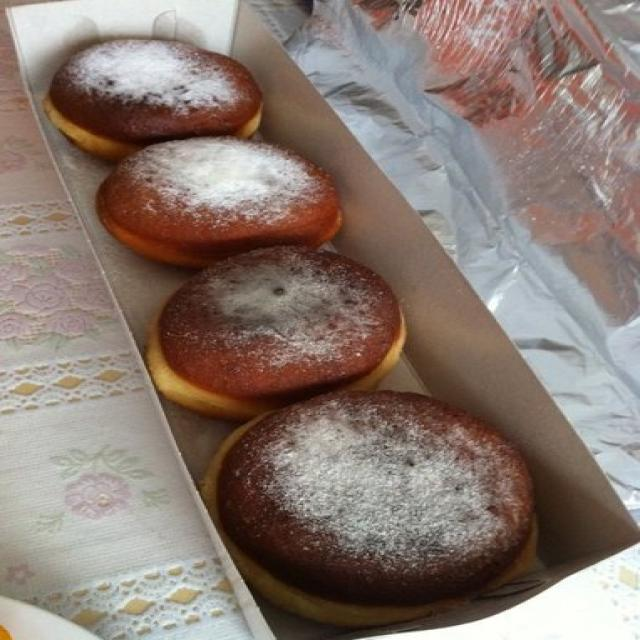Donuts: (22, 17, 586, 628)
